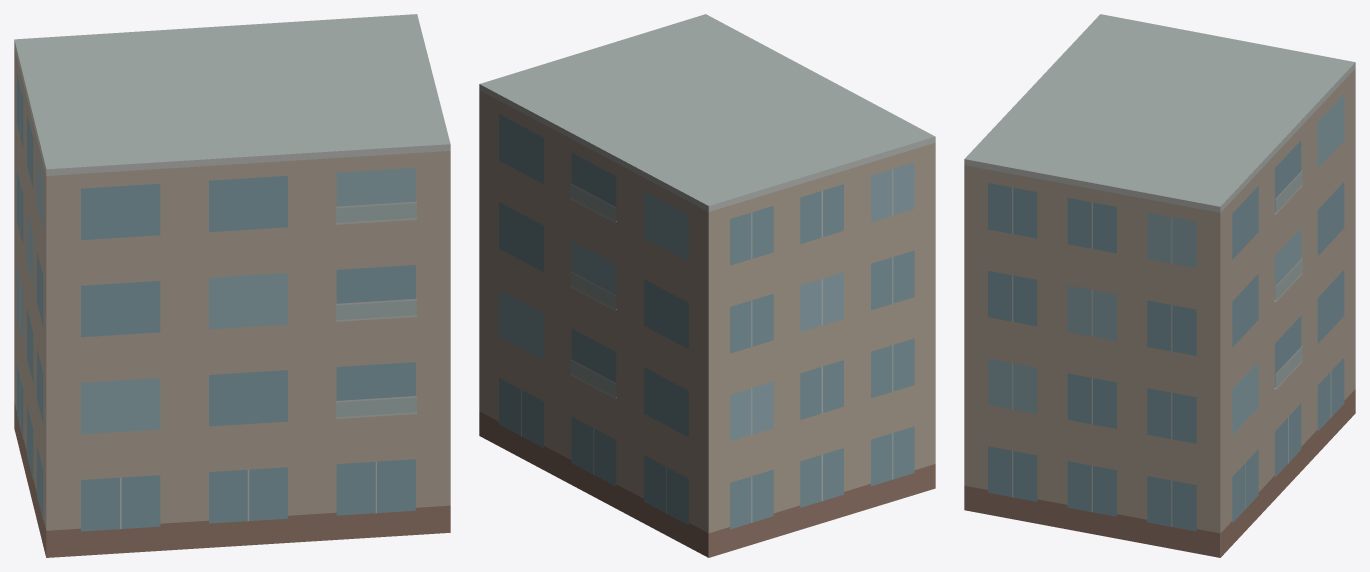
The model's file is survey-upis-32817291.glb.
3 renders of one model, left to right at view 1: azimuth 30°, elevation 25°; view 2: azimuth 150°, elevation 25°; view 3: azimuth 270°, elevation 25°, orthographic. The views are drawn at different scales.
Parts seen in each view (by area): view 1: survey-upis-32817291.tmp; view 2: survey-upis-32817291.tmp; view 3: survey-upis-32817291.tmp.
Part boxes in pixels (<box>): survey-upis-32817291.tmp: <box>14,14,450,557</box>; survey-upis-32817291.tmp: <box>479,14,935,557</box>; survey-upis-32817291.tmp: <box>964,14,1355,557</box>.
Bounding box in the file's own units: 16.74 × 14.2 × 14.35.
